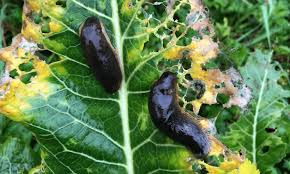slug: (146, 70, 210, 157), (79, 17, 128, 95)
